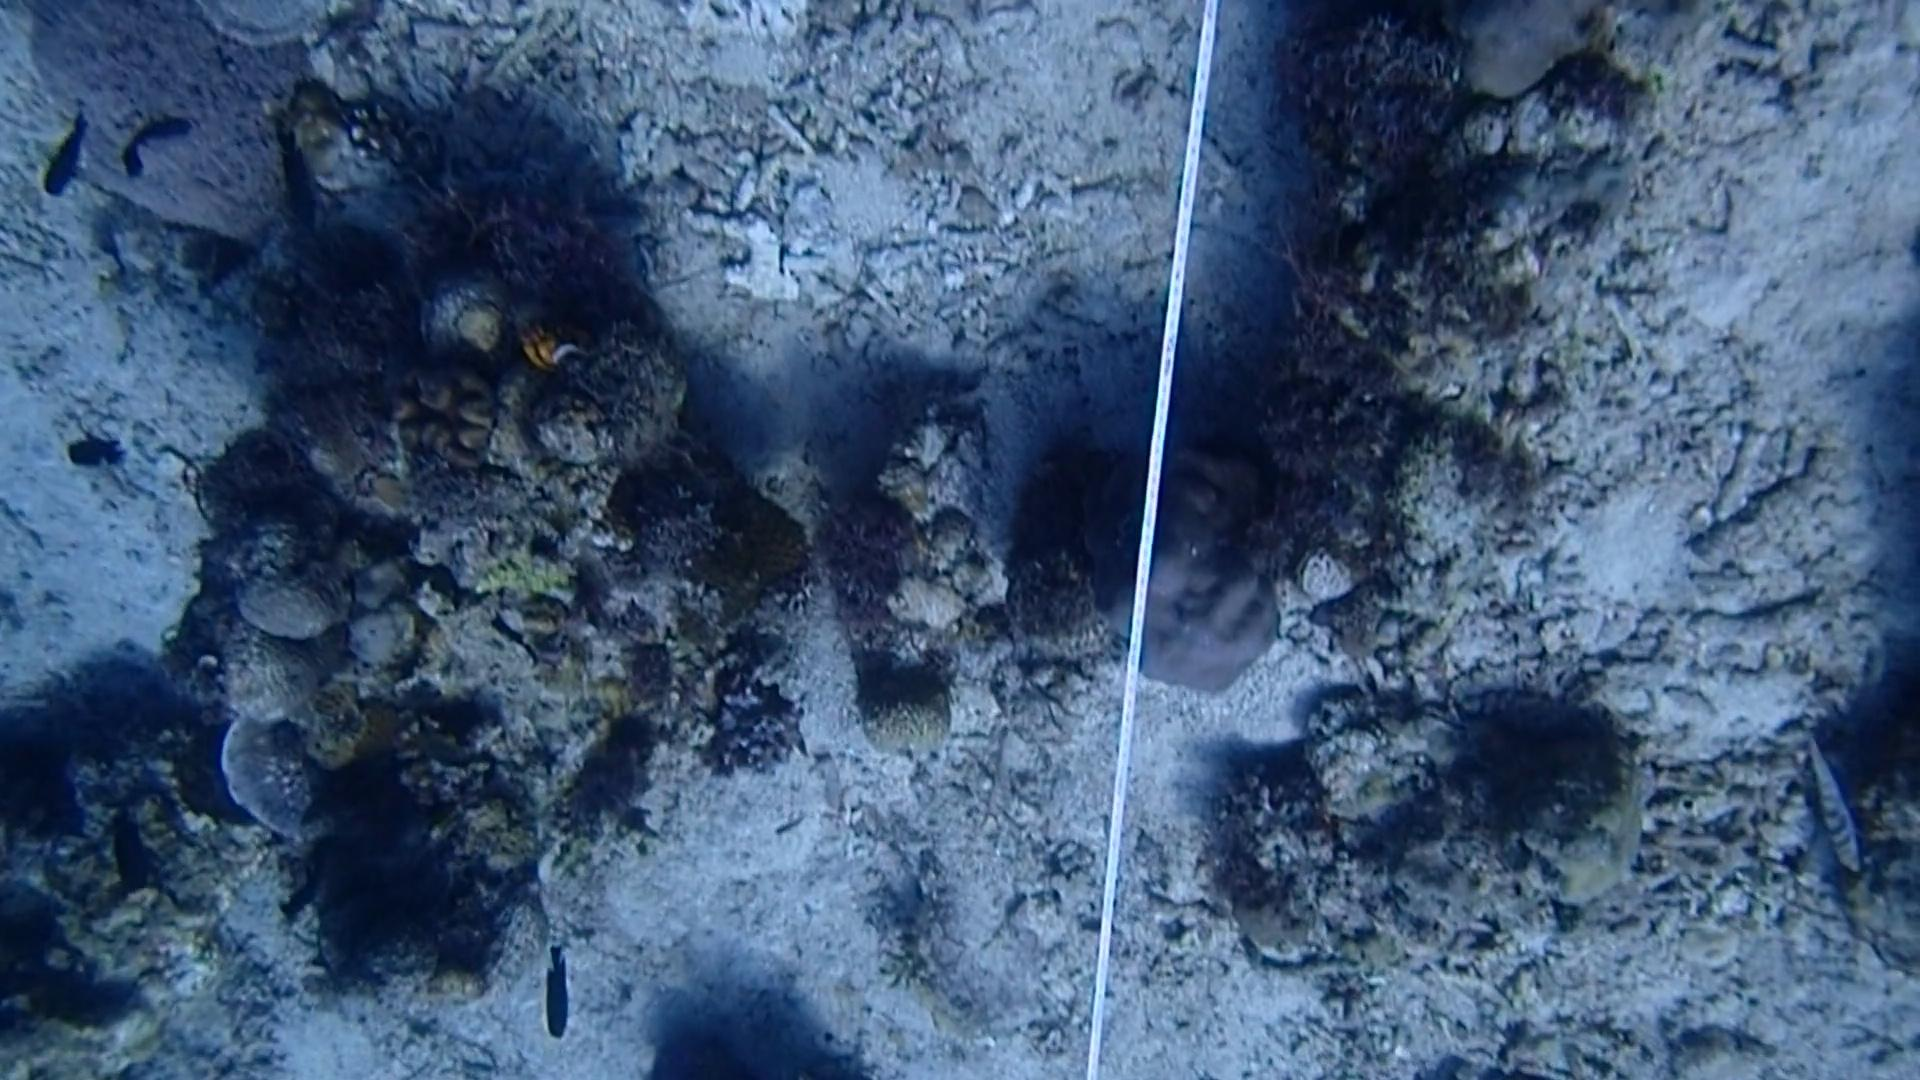Dark Fish: (245, 117, 344, 235), (109, 95, 202, 202), (88, 812, 170, 906), (530, 942, 593, 1062), (33, 102, 102, 211), (55, 414, 136, 488), (282, 840, 344, 932)
Light Fish w Back Stripes: (1782, 723, 1880, 886)
